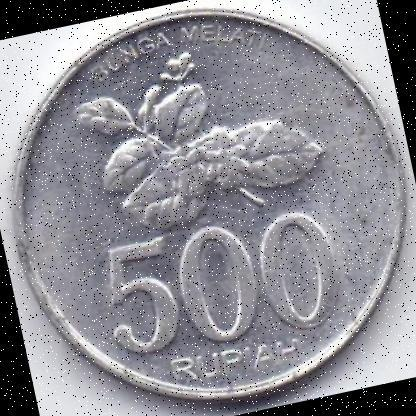coin_500_e2003: (13, 8, 410, 408)
